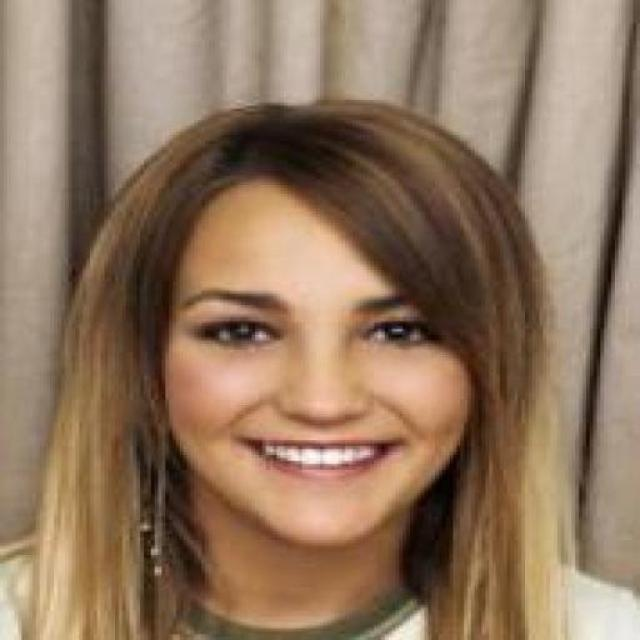bareface: (128, 140, 497, 549)
